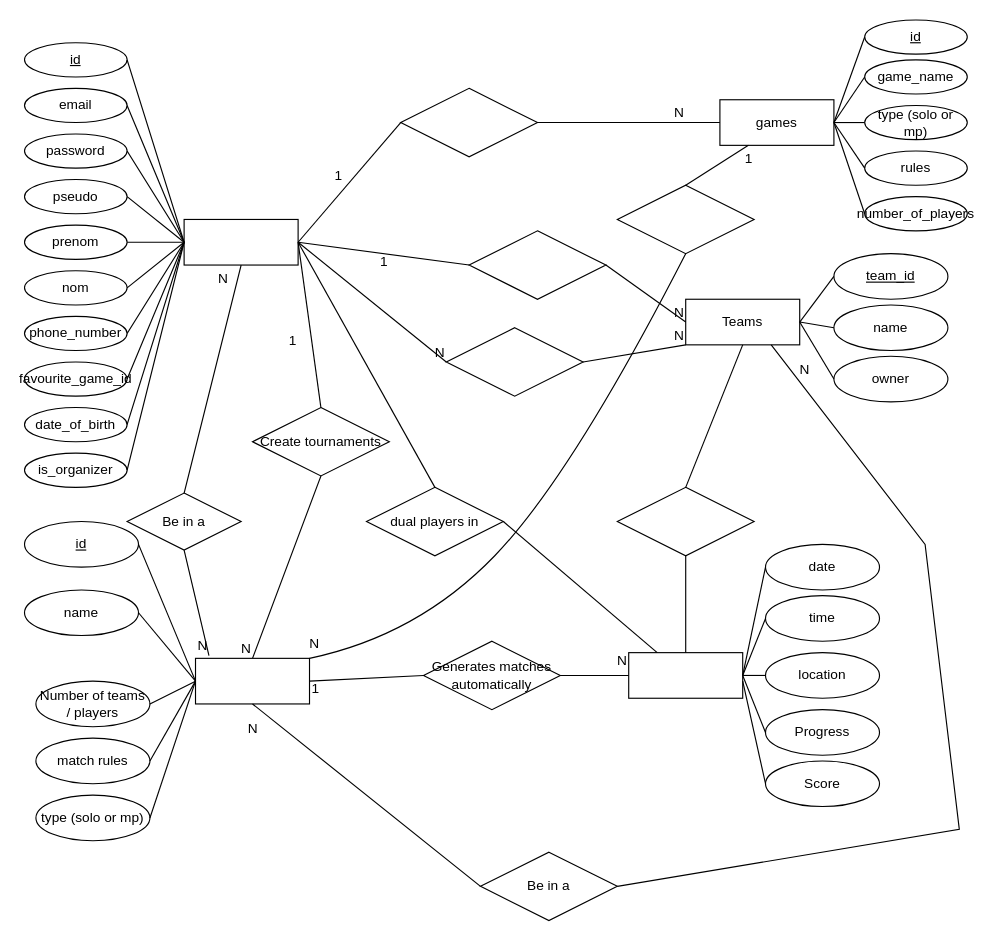
Some shapes in this 994 by 941 pixel diagram are drawn without their labels. The centre of each missing label's shape, as x and y in pixels:
Belongs to a team: [514,361]
competes in: [685,521]
create: [469,122]
Create a team: [537,264]
is related to: [685,219]
Matches: [685,675]
Tournament: [252,680]
users (PLAYERS / ORGANIZERS): [240,241]
